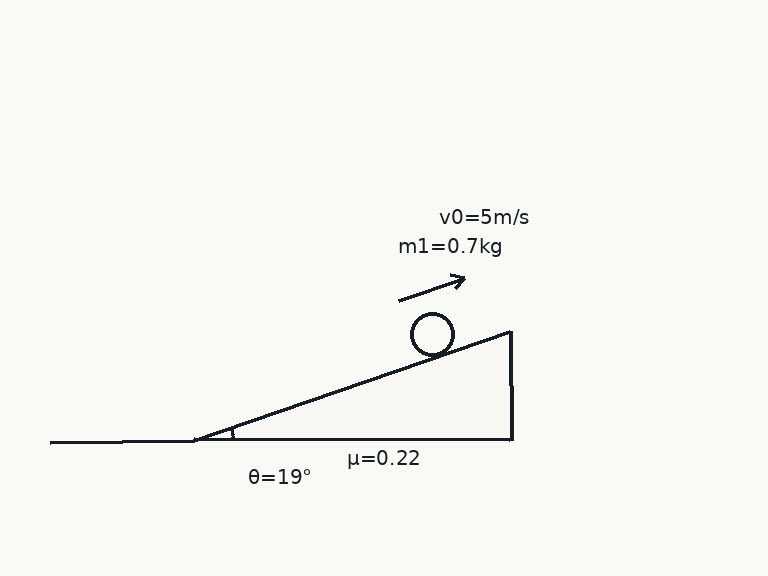ball: (408, 310, 456, 358)
ramp: (191, 329, 512, 442)
